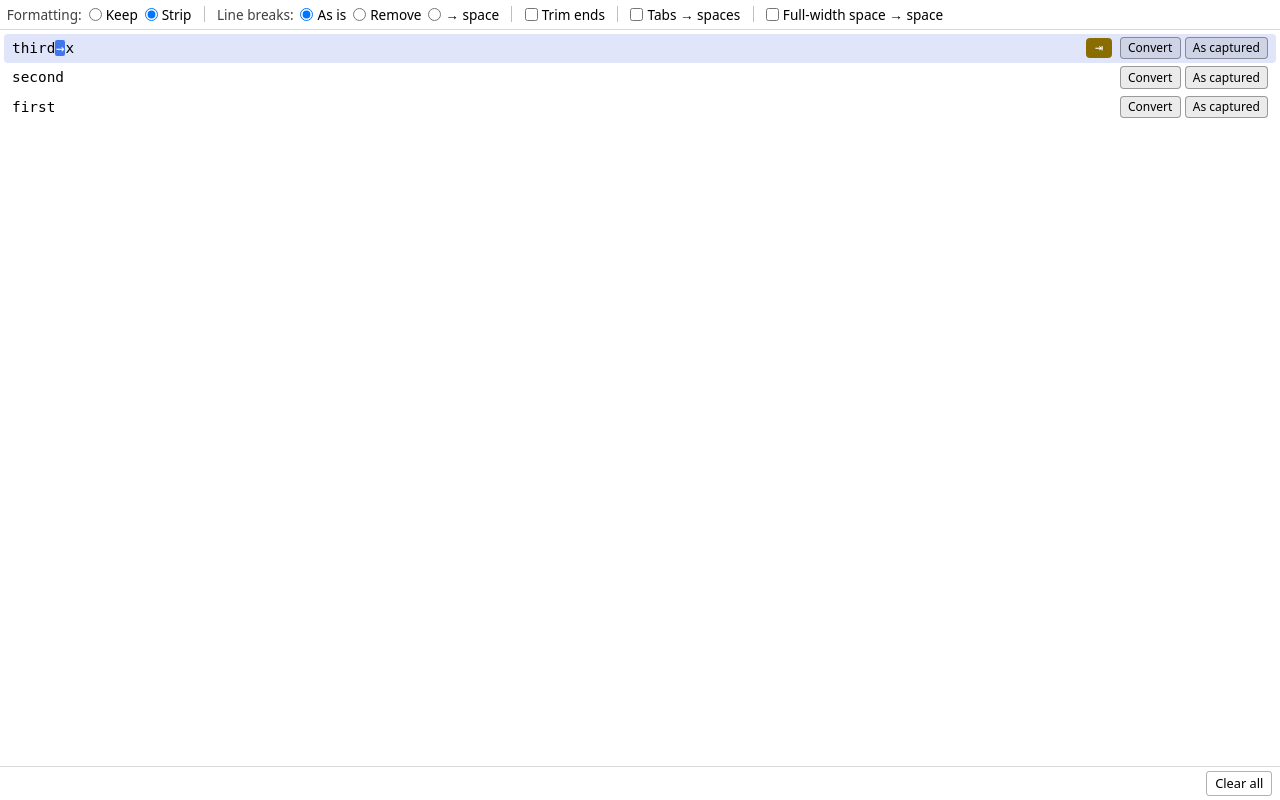
Test: MainWindow — full-text preview › refetches while open when the transfer options change (4.7.1)
This screenshot has width=1280, height=800.
Expected: the number of options is 3, x1=4 y1=34 x2=1276 y2=63; x1=4 y1=63 x2=1276 y2=92; x1=4 y1=92 x2=1276 y2=122
Hover over the field labelled "second": (38, 77) x1=12 y1=69 x2=64 y2=85
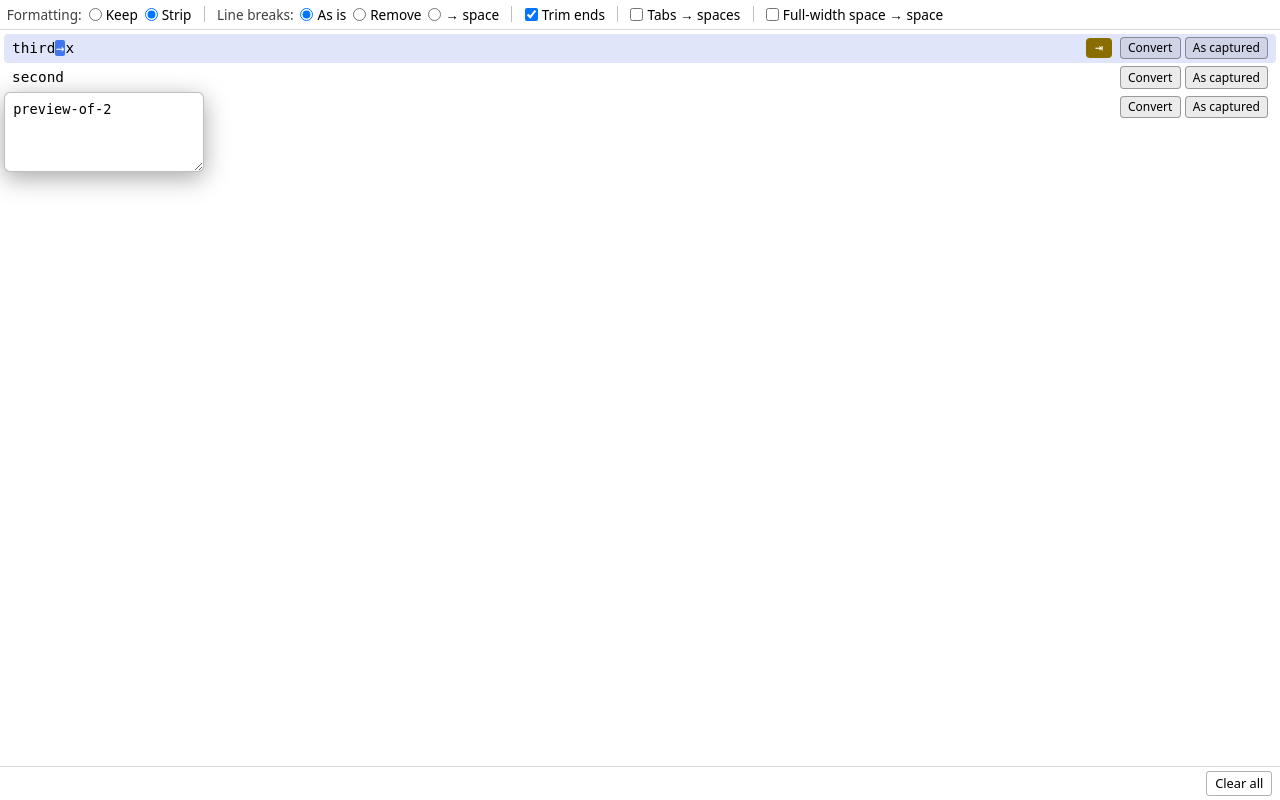
Result: the tooltip "preview-of-2" is shown at x1=4 y1=92 x2=204 y2=172
